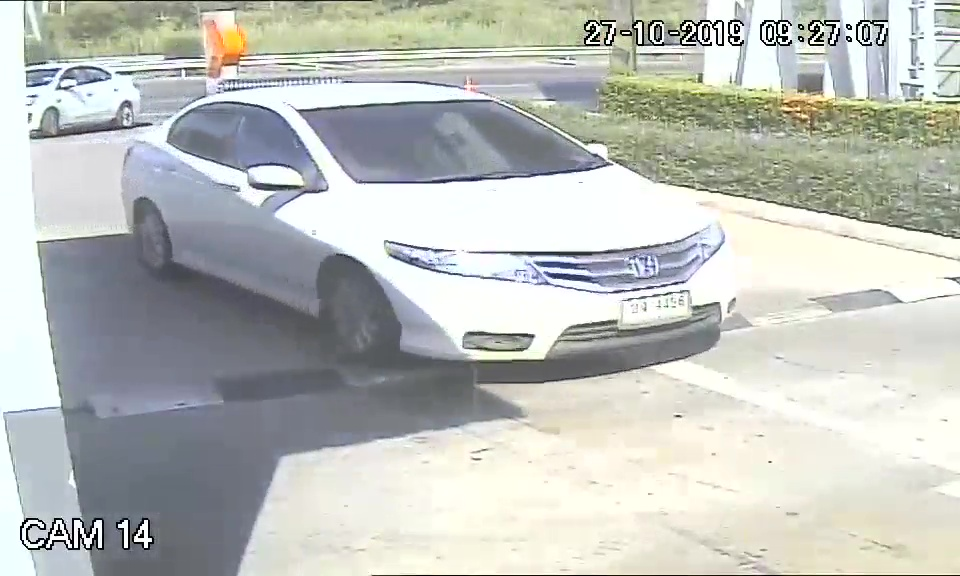sedan: (118, 80, 749, 375)
